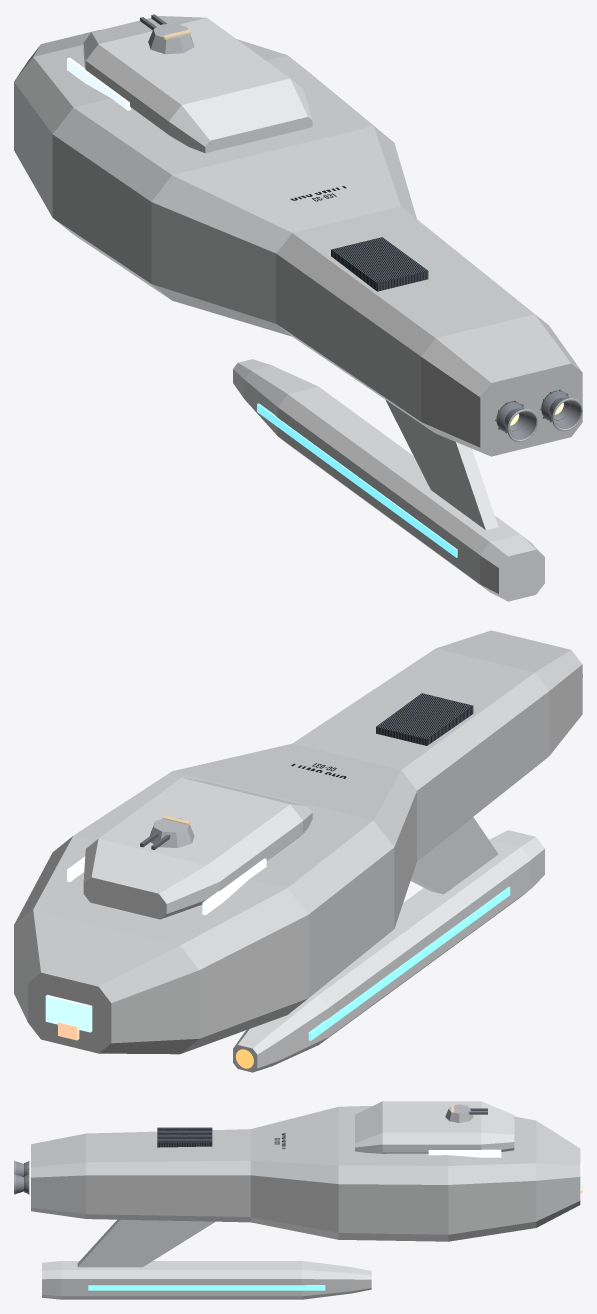
The model's file is swift_below.glb.
3 views of the same model, one above another, from view 1: azimuth 30°, elevation 25°; view 2: azimuth 150°, elevation 25°; view 3: azimuth 270°, elevation 25° (orthographic). The views are drawn at different scales.
Visible parts, largest first — view 1: hull_paint_hull, nacelle_ventral_paint_nacelle, command_paint_plain, nacelle_ventral_paint_plain, hull_radiator, nacelle_ventral_glow_grille, pylon_ventral_paint_plain, hull_drive_bell, hull_weapons_metal_8a9098, command_glow_bridge, hull_drive_metal_3a4049; view 2: hull_paint_hull, command_paint_plain, nacelle_ventral_paint_nacelle, hull_radiator, nacelle_ventral_paint_plain, nacelle_ventral_glow_grille, hull_deflector_glow_dish, command_glow_bridge, hull_weapons_metal_8a9098, pylon_ventral_paint_plain; view 3: hull_paint_hull, nacelle_ventral_paint_nacelle, command_paint_plain, pylon_ventral_paint_plain, nacelle_ventral_paint_plain, nacelle_ventral_glow_grille, hull_radiator, command_glow_bridge, hull_weapons_metal_8a9098, hull_drive_bell.
Boxes of the visible parts, bbox=[...] form: hull_paint_hull: bbox=[14, 29, 582, 456]; nacelle_ventral_paint_nacelle: bbox=[233, 359, 544, 601]; command_paint_plain: bbox=[83, 16, 312, 153]; nacelle_ventral_paint_plain: bbox=[398, 425, 498, 530]; hull_radiator: bbox=[331, 237, 428, 291]; nacelle_ventral_glow_grille: bbox=[257, 403, 457, 557]; pylon_ventral_paint_plain: bbox=[385, 400, 479, 475]; hull_drive_bell: bbox=[504, 397, 580, 439]; hull_weapons_metal_8a9098: bbox=[148, 23, 194, 54]; command_glow_bridge: bbox=[67, 57, 130, 110]; hull_drive_metal_3a4049: bbox=[496, 390, 570, 432]; hull_paint_hull: bbox=[14, 630, 582, 1054]; command_paint_plain: bbox=[83, 778, 312, 919]; nacelle_ventral_paint_nacelle: bbox=[233, 830, 544, 1072]; hull_radiator: bbox=[376, 693, 473, 745]; nacelle_ventral_paint_plain: bbox=[410, 827, 498, 894]; nacelle_ventral_glow_grille: bbox=[308, 886, 510, 1040]; hull_deflector_glow_dish: bbox=[45, 995, 92, 1032]; command_glow_bridge: bbox=[67, 856, 266, 915]; hull_weapons_metal_8a9098: bbox=[150, 818, 194, 848]; pylon_ventral_paint_plain: bbox=[412, 817, 479, 876]; hull_paint_hull: bbox=[31, 1106, 580, 1241]; nacelle_ventral_paint_nacelle: bbox=[42, 1261, 371, 1299]; command_paint_plain: bbox=[355, 1101, 514, 1153]; pylon_ventral_paint_plain: bbox=[99, 1219, 215, 1242]; nacelle_ventral_paint_plain: bbox=[77, 1239, 181, 1267]; nacelle_ventral_glow_grille: bbox=[88, 1285, 325, 1290]; hull_radiator: bbox=[157, 1127, 212, 1147]; command_glow_bridge: bbox=[428, 1149, 501, 1157]; hull_weapons_metal_8a9098: bbox=[445, 1104, 473, 1122]; hull_drive_bell: bbox=[15, 1161, 23, 1193].
Bounding box in the file's own units: 16 × 18.78 × 51.8.
17 materials, 2 textured.
